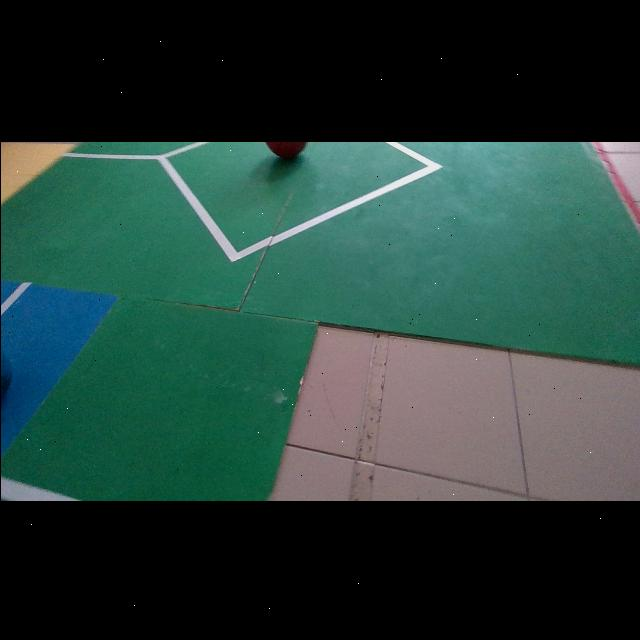R: (264, 140, 306, 157)
